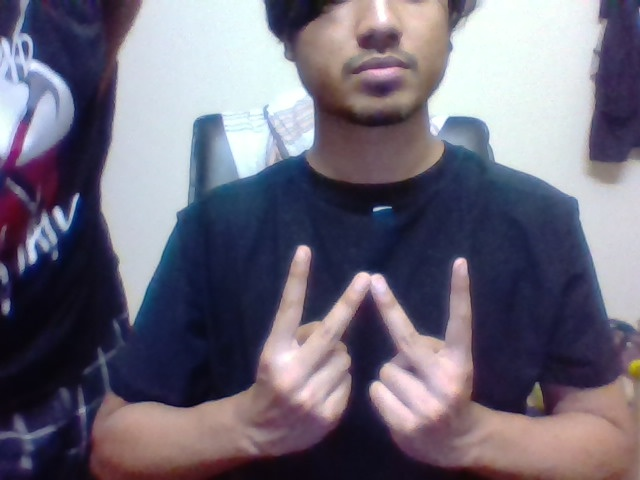W: (254, 237, 489, 364)
